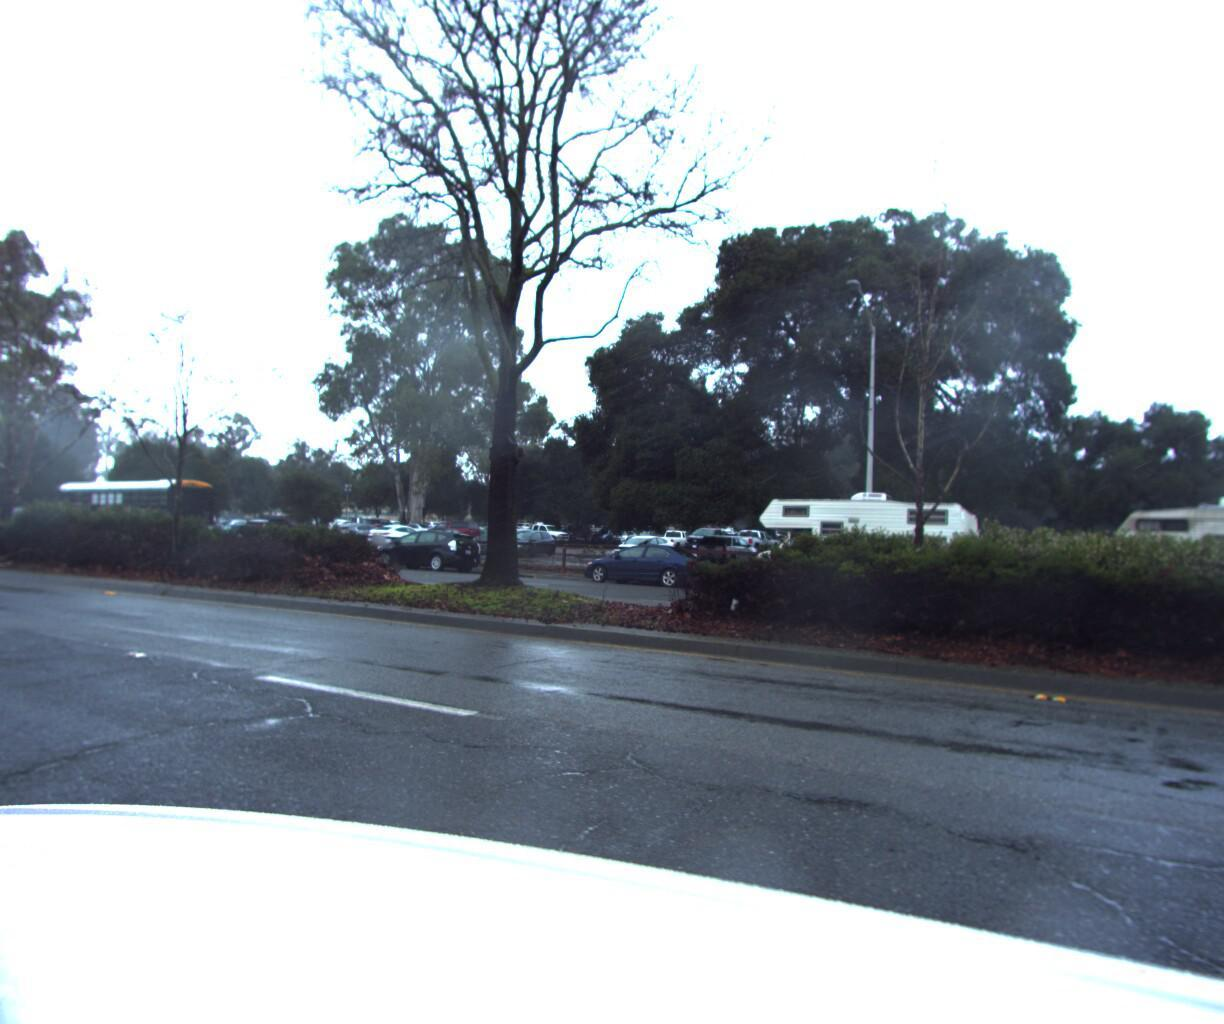bus: (39, 479, 226, 555)
car: (578, 543, 717, 596), (369, 530, 485, 579), (1041, 528, 1110, 586), (239, 513, 329, 545), (492, 529, 569, 562), (361, 524, 440, 553)
other_vehicle: (747, 487, 988, 609), (1090, 485, 1224, 644)
